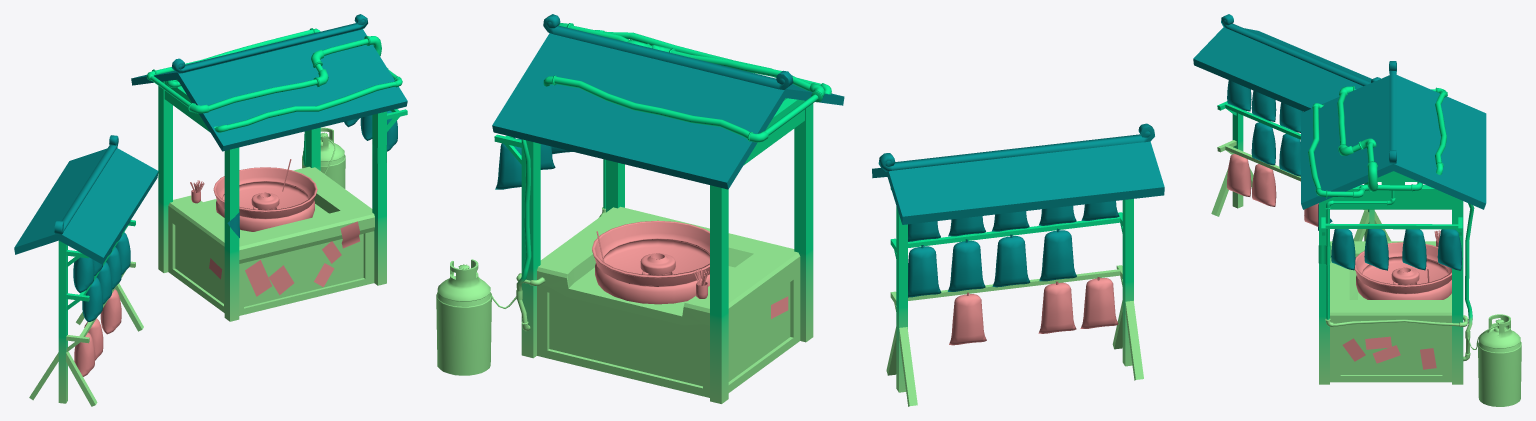
File: SM_ENV_LKNVLD_Stall_F.gltf
3 views of the same model, side by side, from view 1: azimuth 30°, elevation 25°; view 2: azimuth 150°, elevation 25°; view 3: azimuth 270°, elevation 25° (orthographic). The views are drawn at different scales.
Visible parts, largest first — view 1: SM_ENV_LKNVLD_Stall_F; view 2: SM_ENV_LKNVLD_Stall_F; view 3: SM_ENV_LKNVLD_Stall_F.
Boxes of the visible parts, x1,y1,x2,y2 form: SM_ENV_LKNVLD_Stall_F: [14, 14, 407, 406]; SM_ENV_LKNVLD_Stall_F: [436, 14, 1164, 406]; SM_ENV_LKNVLD_Stall_F: [1193, 14, 1521, 406].
Size of the model in its own units: 6.05 by 3.08 by 3.82.
